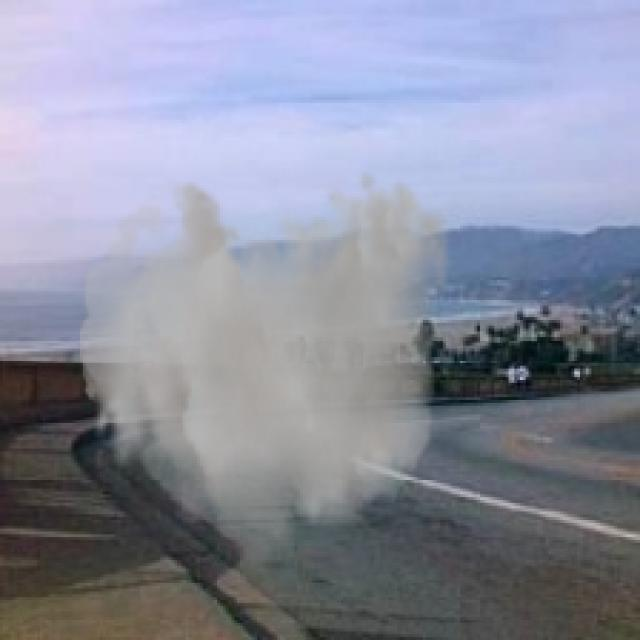smoke: (80, 168, 451, 583)
